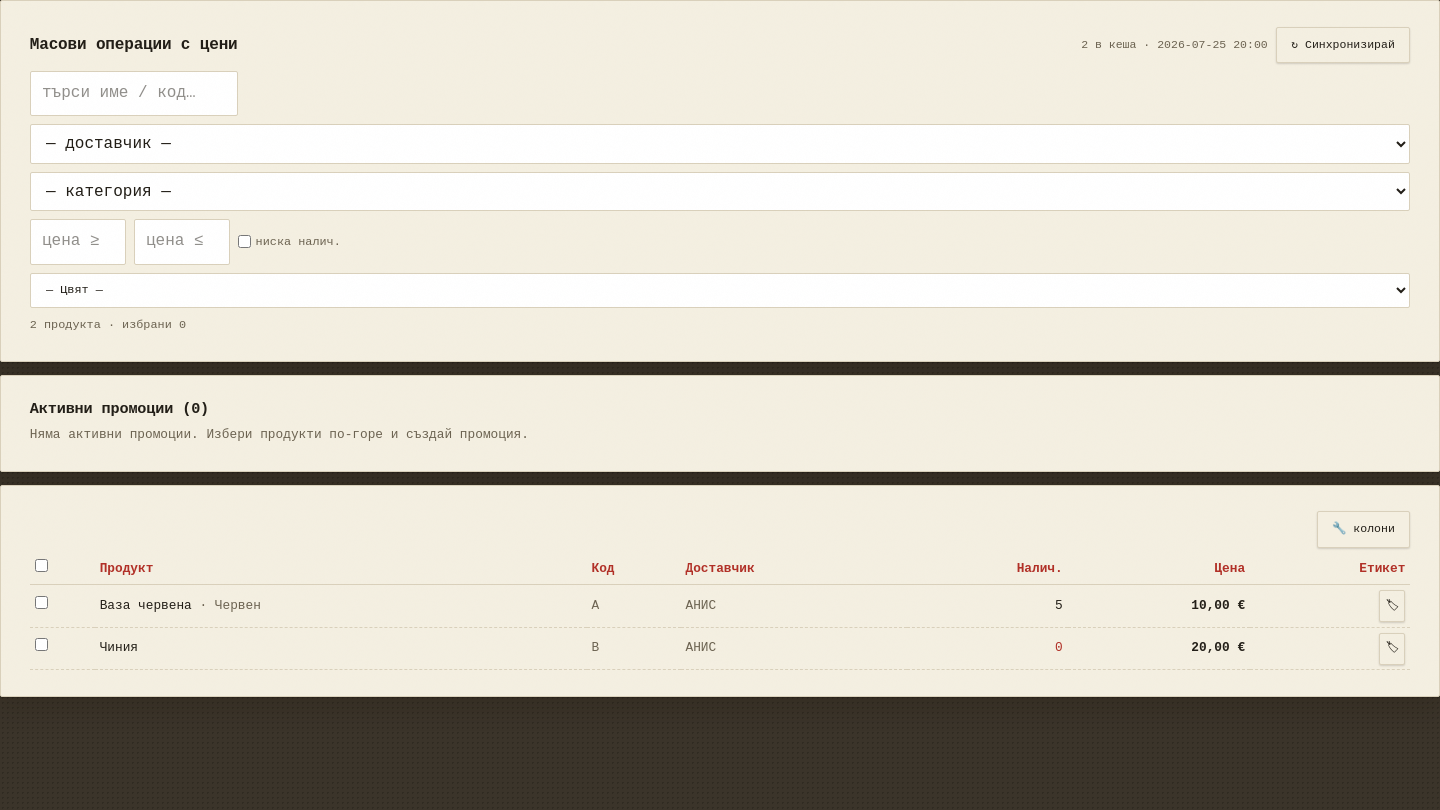
Test: ProductBulkPricing › selects a product and previews a bulk price operation
The width and height of the screenshot is (1440, 810).
Click the checkbox named "Ваза червена" at (41, 602), box 35,596 -> 48,609
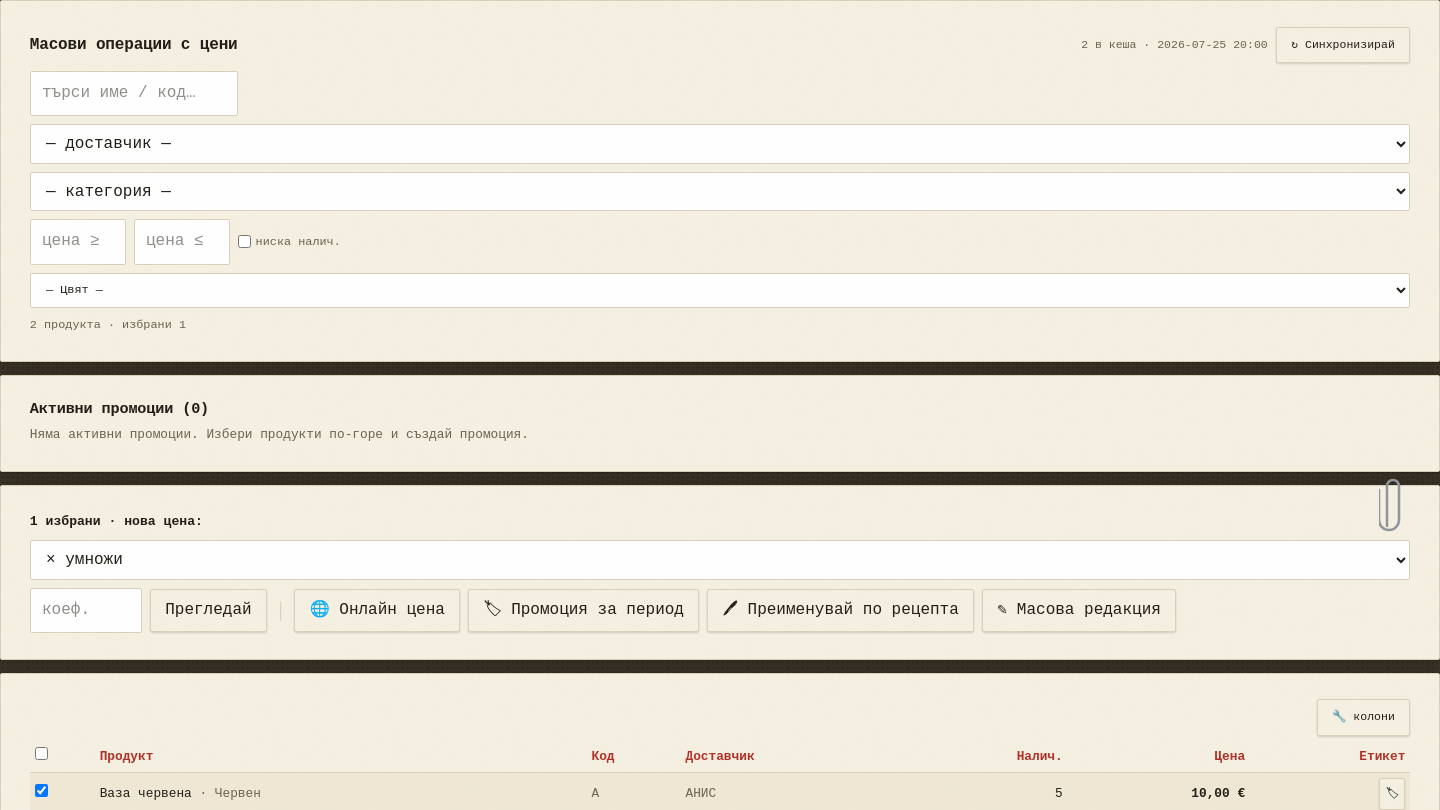
// bulk bar appears
Type "1.2" into the field with placeholder "коеф." at (86, 611), box 30,588 -> 142,633
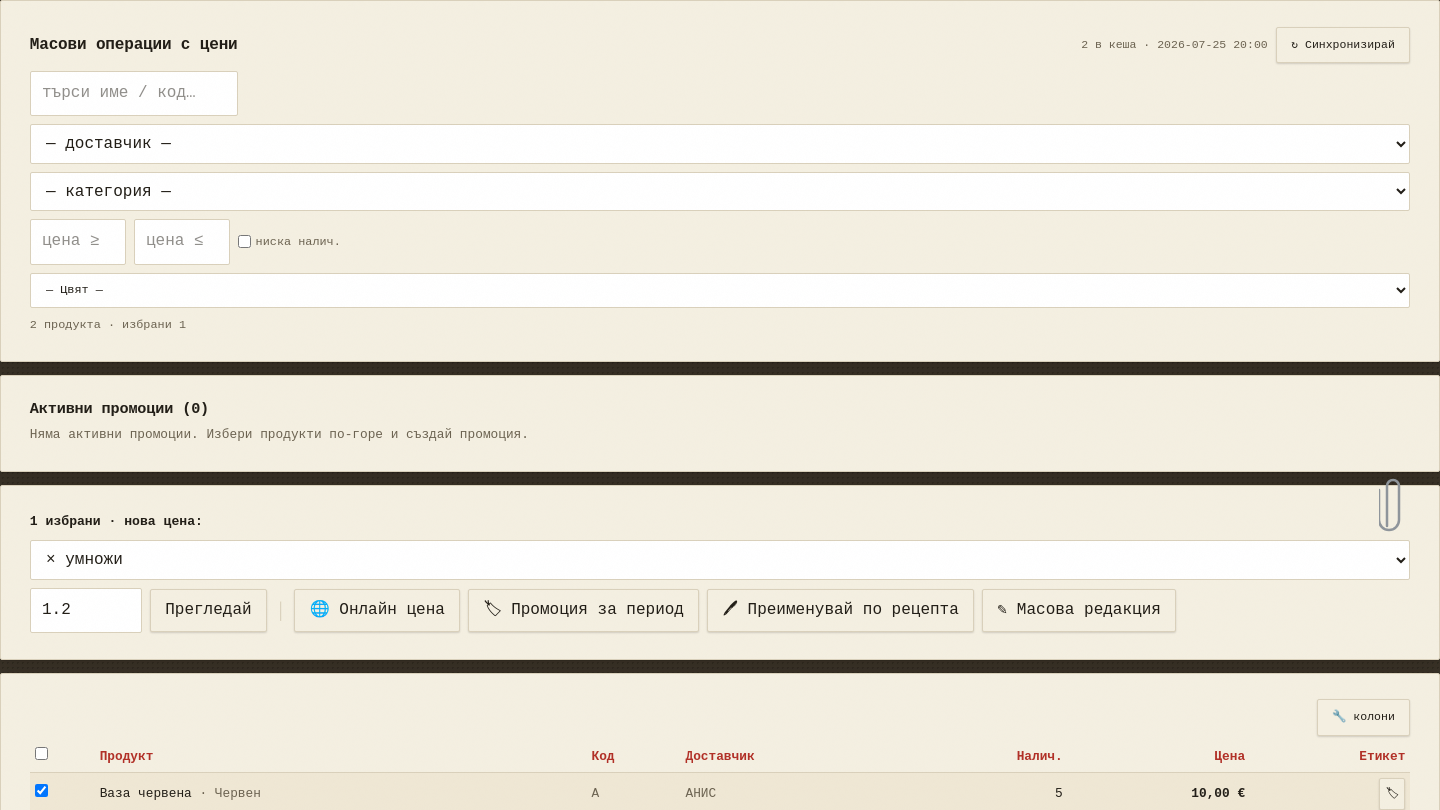
Click the button "Прегледай" at (208, 611), box 150,589 -> 267,632
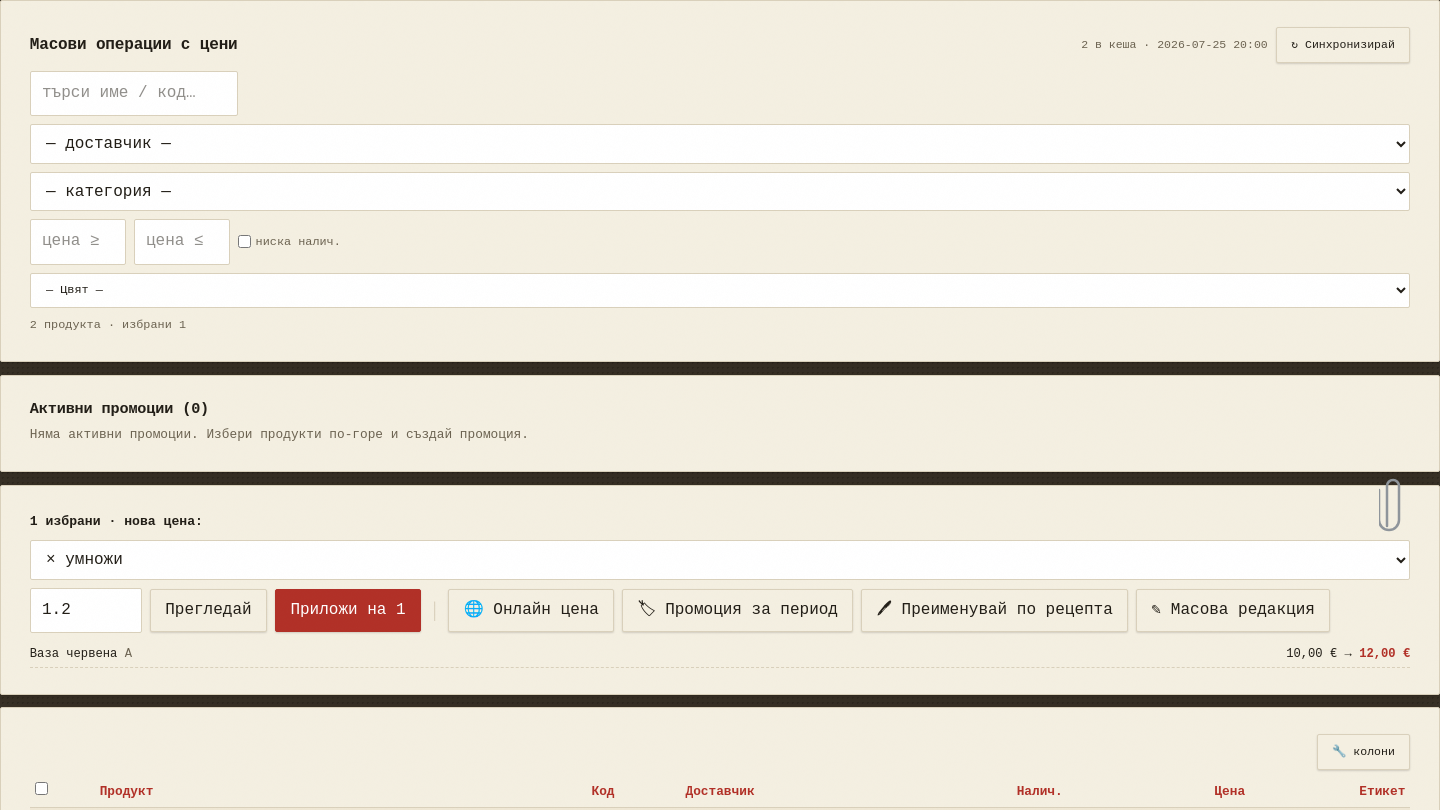
expect the text "12,00 €" is shown: met, box 1359,647 -> 1410,661
expect the button "Приложи на 1" is shown: met, box 275,589 -> 421,632
